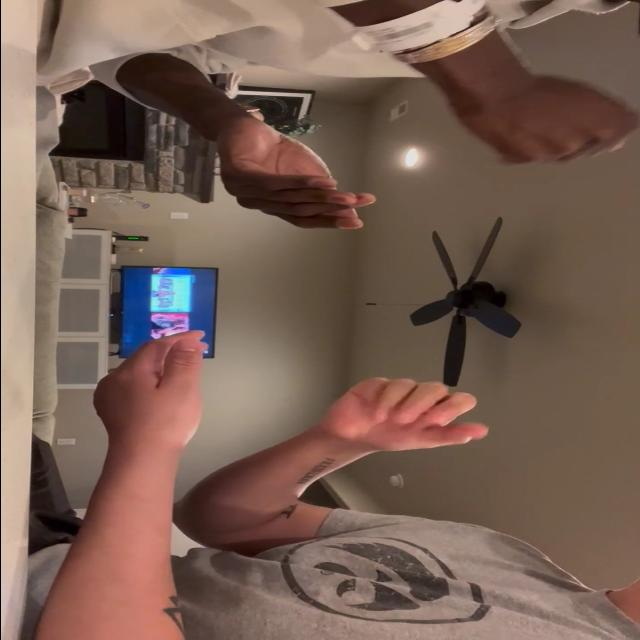Rock: (456, 78, 640, 164)
